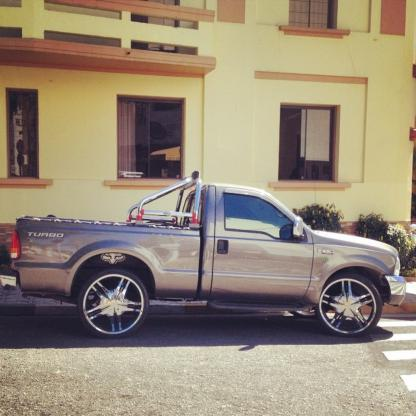Truck: (10, 171, 408, 340)
